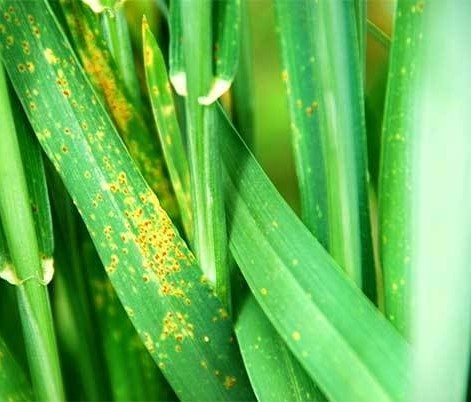Leaf Rust: (82, 155, 218, 344)
